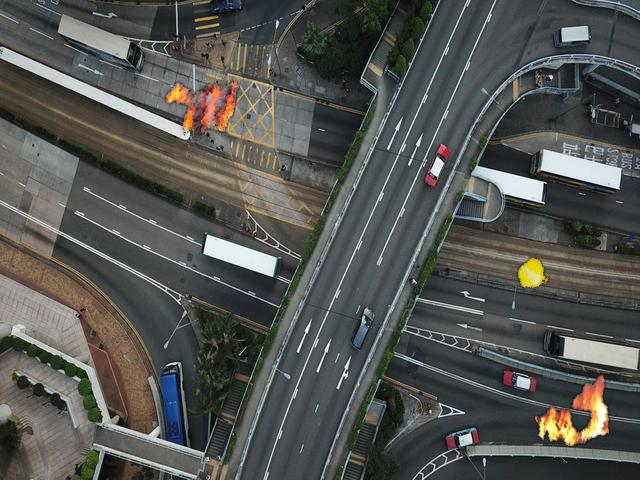fire: (534, 374, 610, 446), (165, 78, 240, 140), (516, 256, 548, 289)
